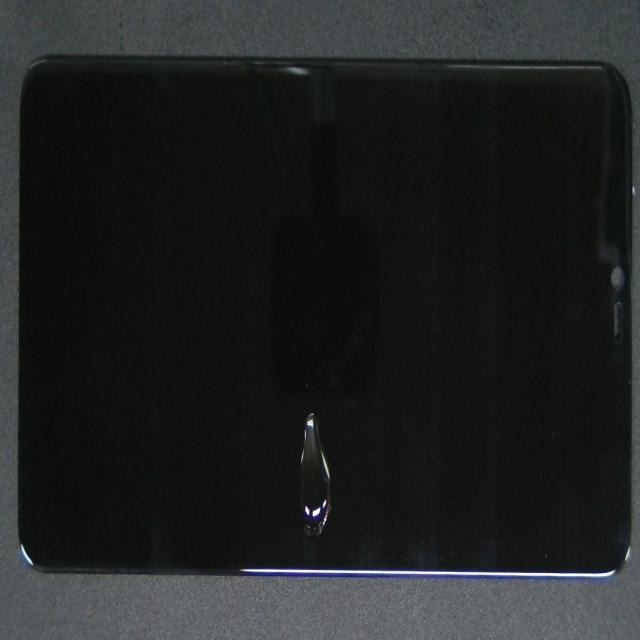oil: (172, 282, 501, 640)
